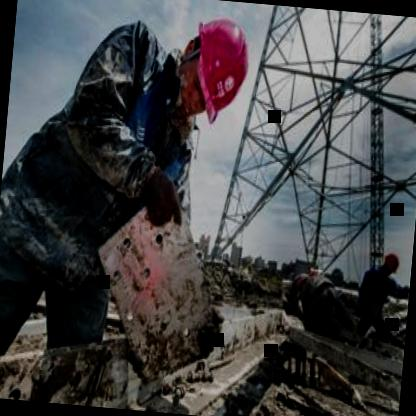helmet: (178, 6, 258, 139), (379, 244, 407, 282)
